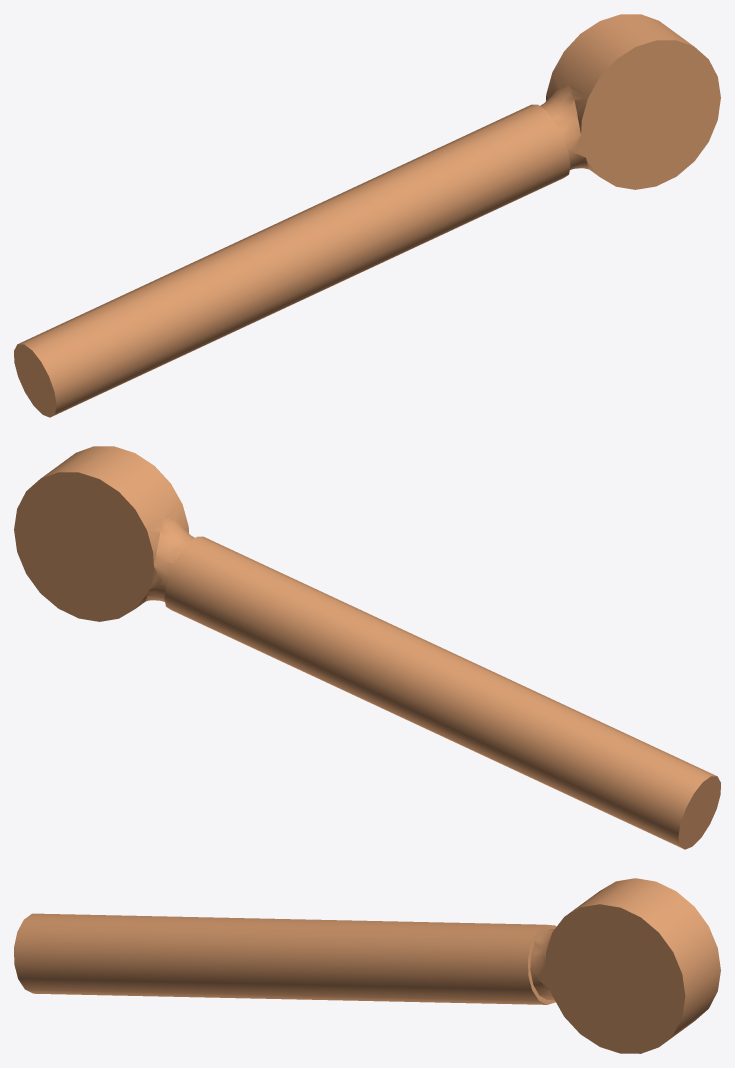
Rendered from link_piston.dae.
The picture shows the model from 3 angles, top to bottom: view 1: azimuth 30°, elevation 25°; view 2: azimuth 150°, elevation 25°; view 3: azimuth 330°, elevation 25°; orthographic projection.
Parts seen in each view (by area): view 1: IRB6600_PISTON; view 2: IRB6600_PISTON; view 3: IRB6600_PISTON.
Boxes of the visible parts, left/top/right/bottom form: IRB6600_PISTON: left=14, top=14, right=720, bottom=417; IRB6600_PISTON: left=14, top=446, right=720, bottom=849; IRB6600_PISTON: left=14, top=878, right=720, bottom=1053.
Bounding box in the file's own units: 0.7234 × 0.0746 × 0.2476.
